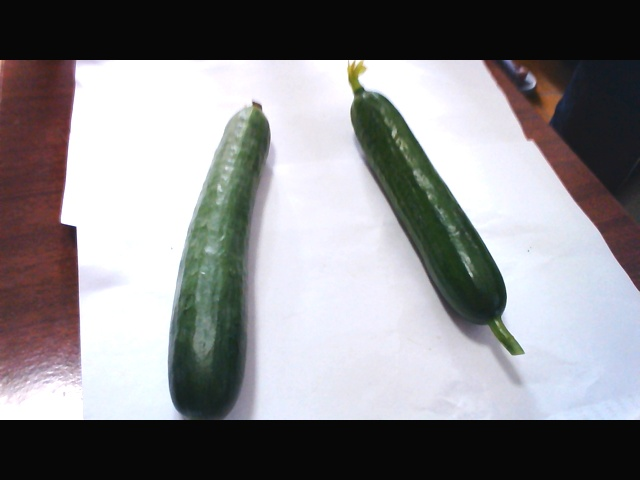cucumber: (340, 87, 516, 345), (156, 94, 265, 420)
